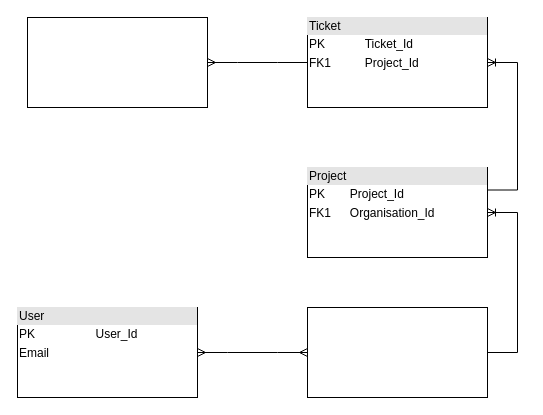
The diagram is 543 pixels wide and 415 high, and some of its shapes have lost their labels. The centre of each missing label's shape, as x and y in pixels:
"Organisation PK Organisation_Id" goes at (397,352).
"Time_Details PK Time_Details_Id FK1 Ticket_Id" goes at (117,62).
